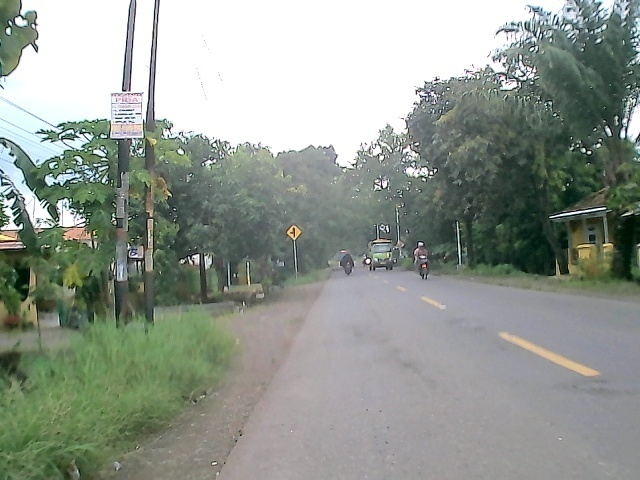Simpang kiri dengan prioritas: (286, 223, 303, 242)
